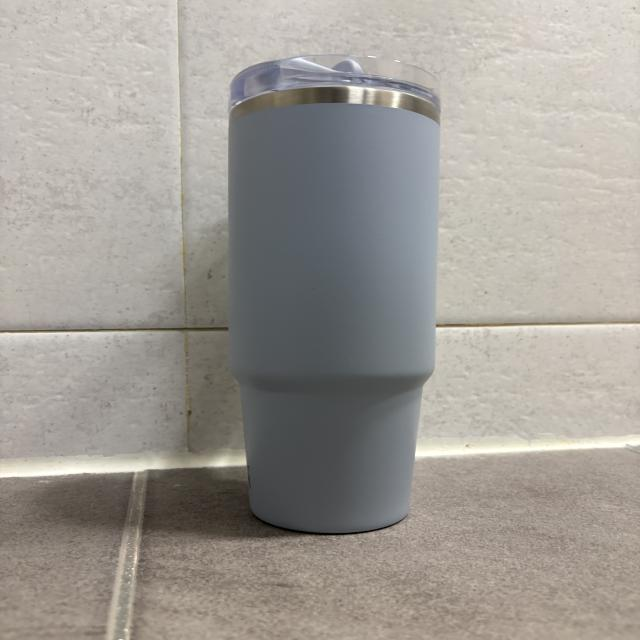waterbottle: (228, 54, 440, 534)
